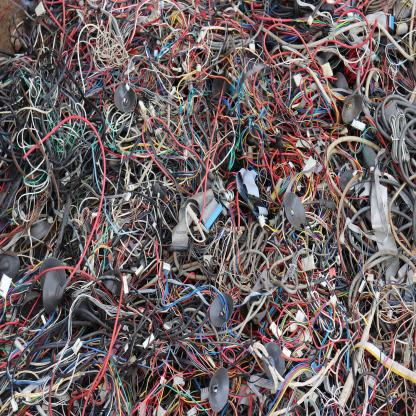wires: (0, 1, 416, 415)
